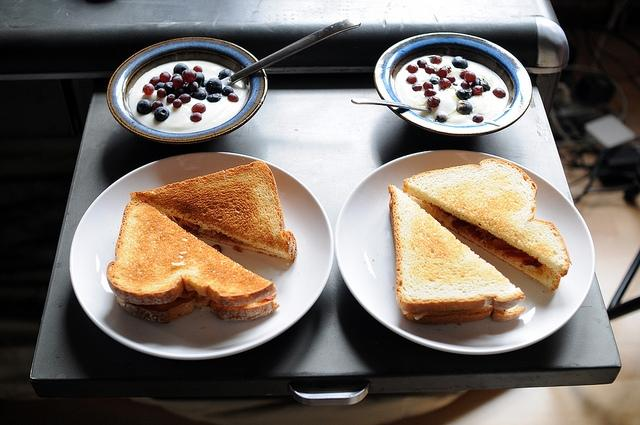blueberry: (205, 78, 222, 96), (470, 78, 490, 92), (137, 99, 153, 115), (457, 100, 473, 115), (154, 107, 169, 122), (452, 56, 468, 69), (174, 63, 189, 76), (182, 70, 198, 82), (455, 89, 472, 100), (191, 89, 206, 100), (206, 92, 222, 102), (427, 96, 440, 108), (163, 81, 176, 93), (218, 69, 232, 80), (172, 76, 184, 88), (174, 87, 186, 99), (222, 85, 234, 96), (178, 93, 190, 104), (149, 76, 161, 87), (190, 112, 202, 123), (437, 68, 448, 78), (436, 113, 448, 122), (166, 93, 176, 103), (472, 114, 483, 123), (188, 82, 198, 91), (154, 82, 165, 90), (418, 59, 427, 68), (442, 66, 452, 74), (158, 88, 166, 98), (172, 72, 182, 80), (430, 77, 440, 84), (202, 80, 208, 87)
grape: (456, 100, 473, 115), (182, 69, 197, 82), (174, 63, 189, 76), (172, 74, 185, 88), (142, 84, 154, 96), (464, 71, 476, 83), (187, 81, 199, 93), (427, 96, 440, 107), (218, 69, 231, 80), (178, 93, 192, 103), (192, 103, 206, 113), (492, 88, 506, 98), (438, 78, 452, 88), (207, 93, 222, 102), (149, 76, 161, 87), (437, 66, 448, 78), (160, 71, 171, 83), (424, 65, 438, 74), (190, 112, 202, 122), (460, 68, 470, 80), (423, 80, 434, 90), (152, 100, 163, 110), (472, 86, 483, 96), (175, 88, 186, 98), (430, 55, 442, 64), (407, 74, 417, 84), (228, 92, 238, 102), (417, 59, 427, 69), (407, 64, 418, 73), (472, 114, 483, 123), (424, 88, 436, 96), (157, 88, 167, 97), (173, 99, 182, 108), (460, 81, 470, 89), (412, 84, 423, 91), (192, 66, 202, 73), (436, 115, 446, 122)
